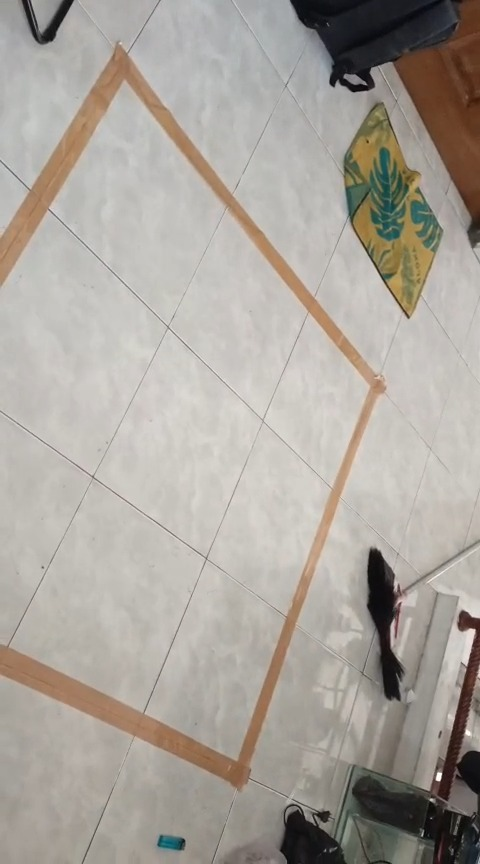floor marking: (0, 45, 384, 789)
